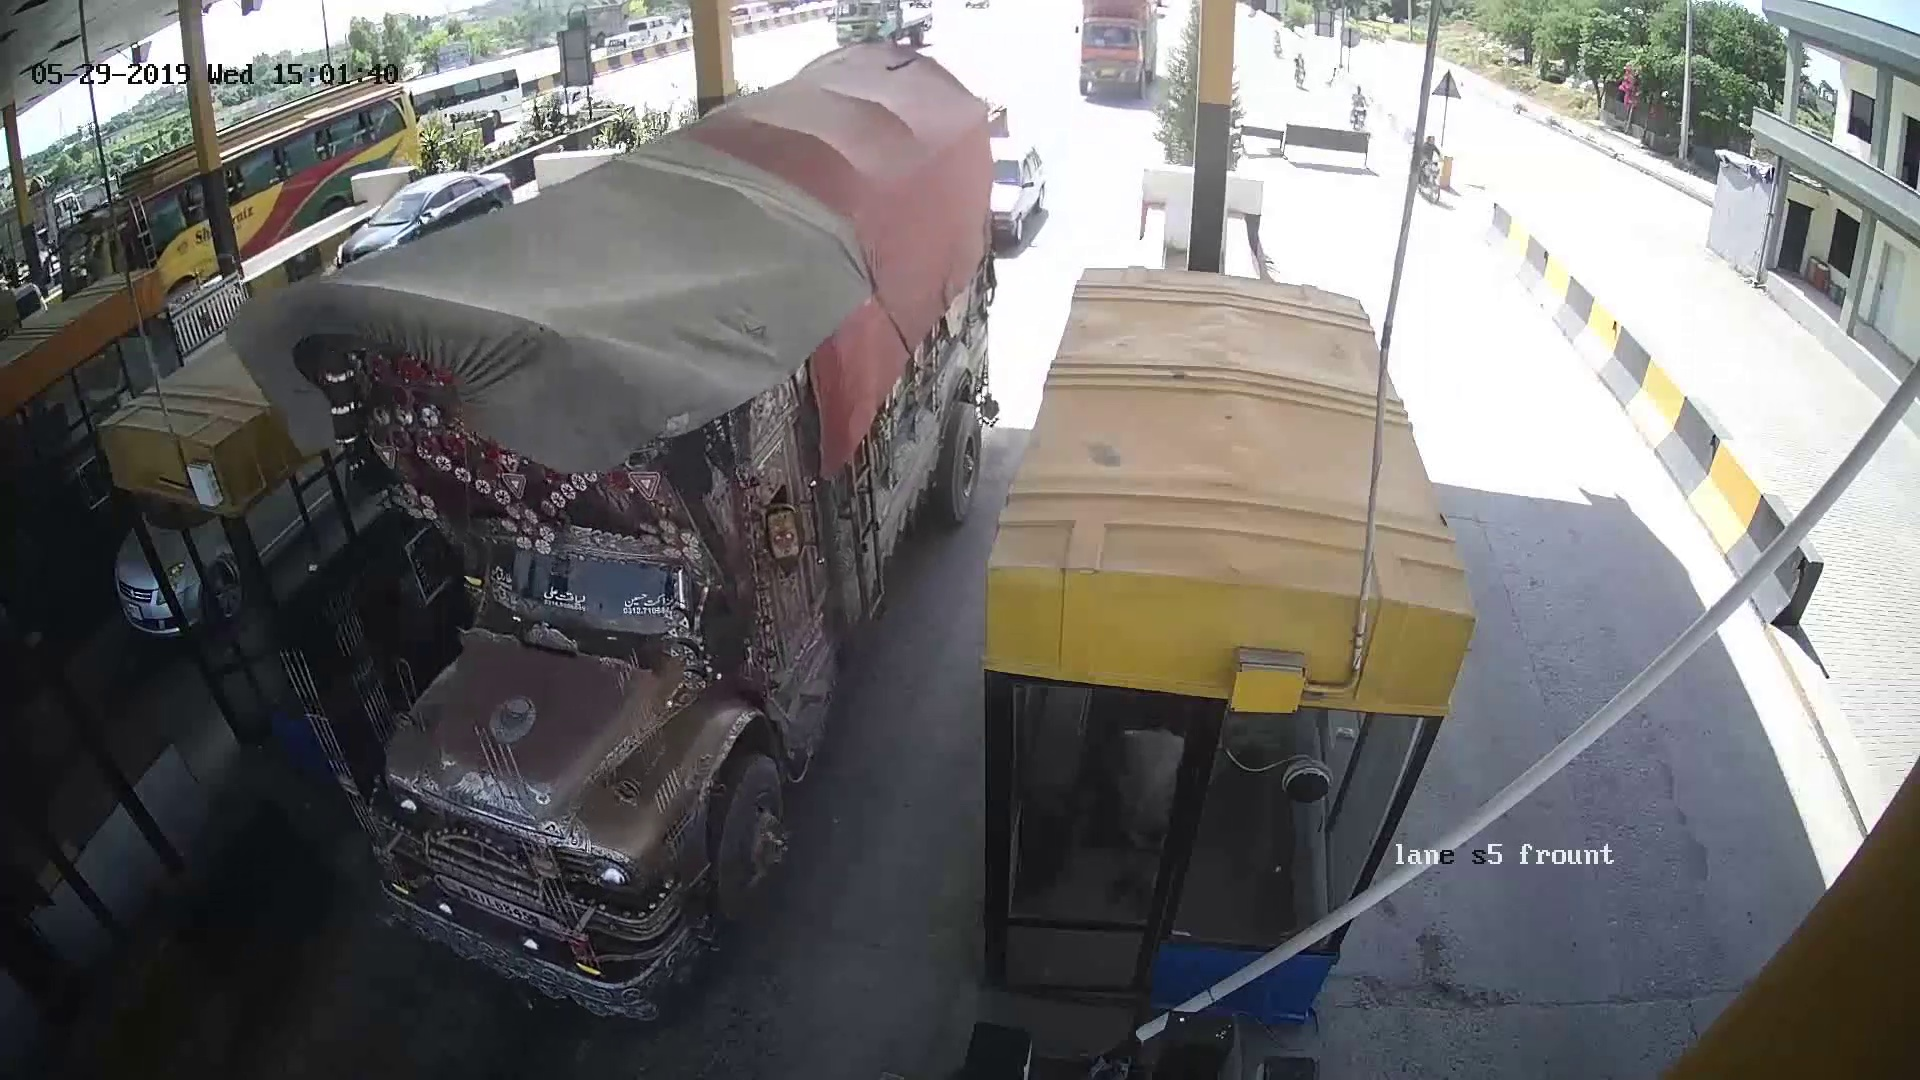truck: (396, 243, 961, 942), (1058, 7, 1155, 103)
